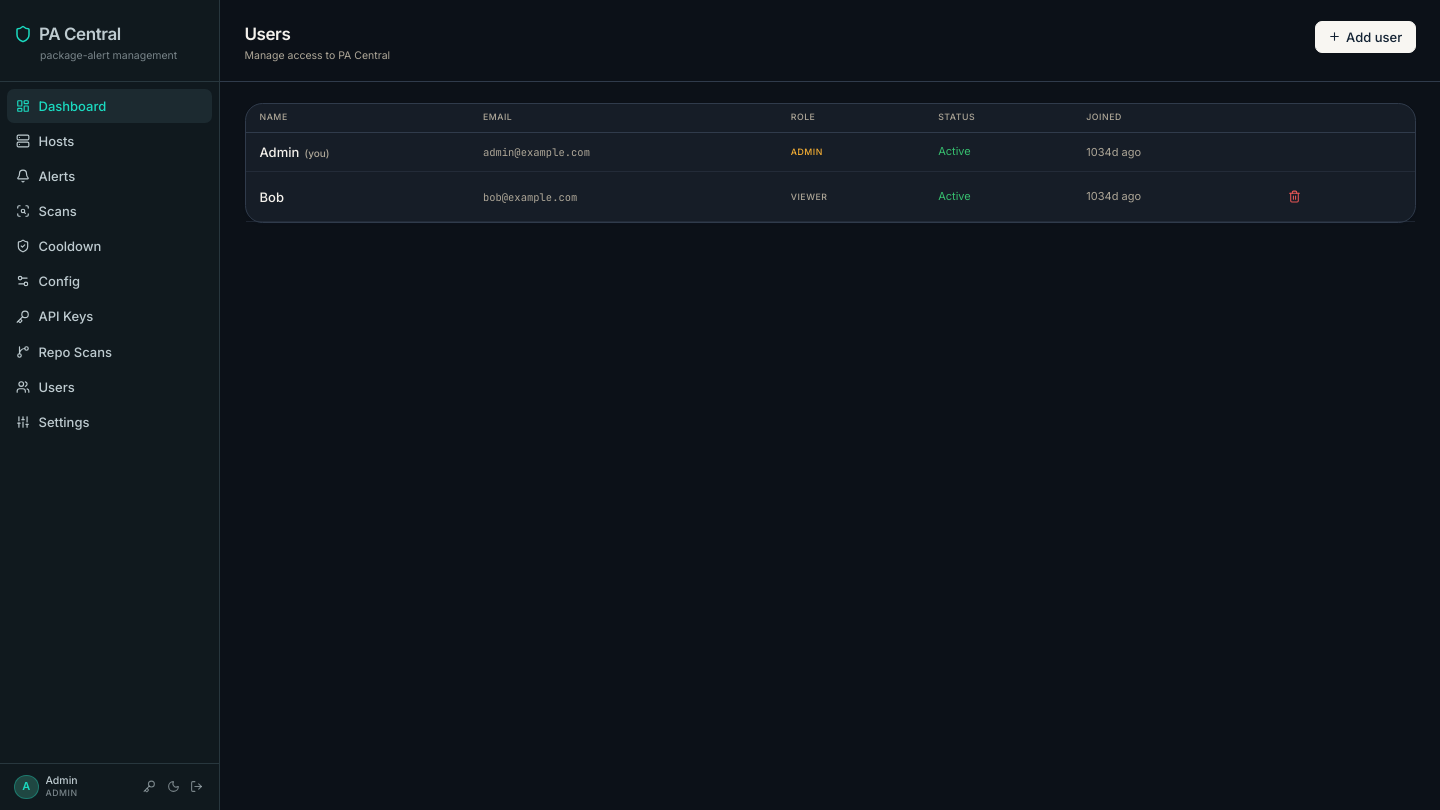
Test: Users page — admin password reset › shows the generated password once when no link was sent
Click the text "Bob" at (272, 197), box [246, 172, 469, 222]
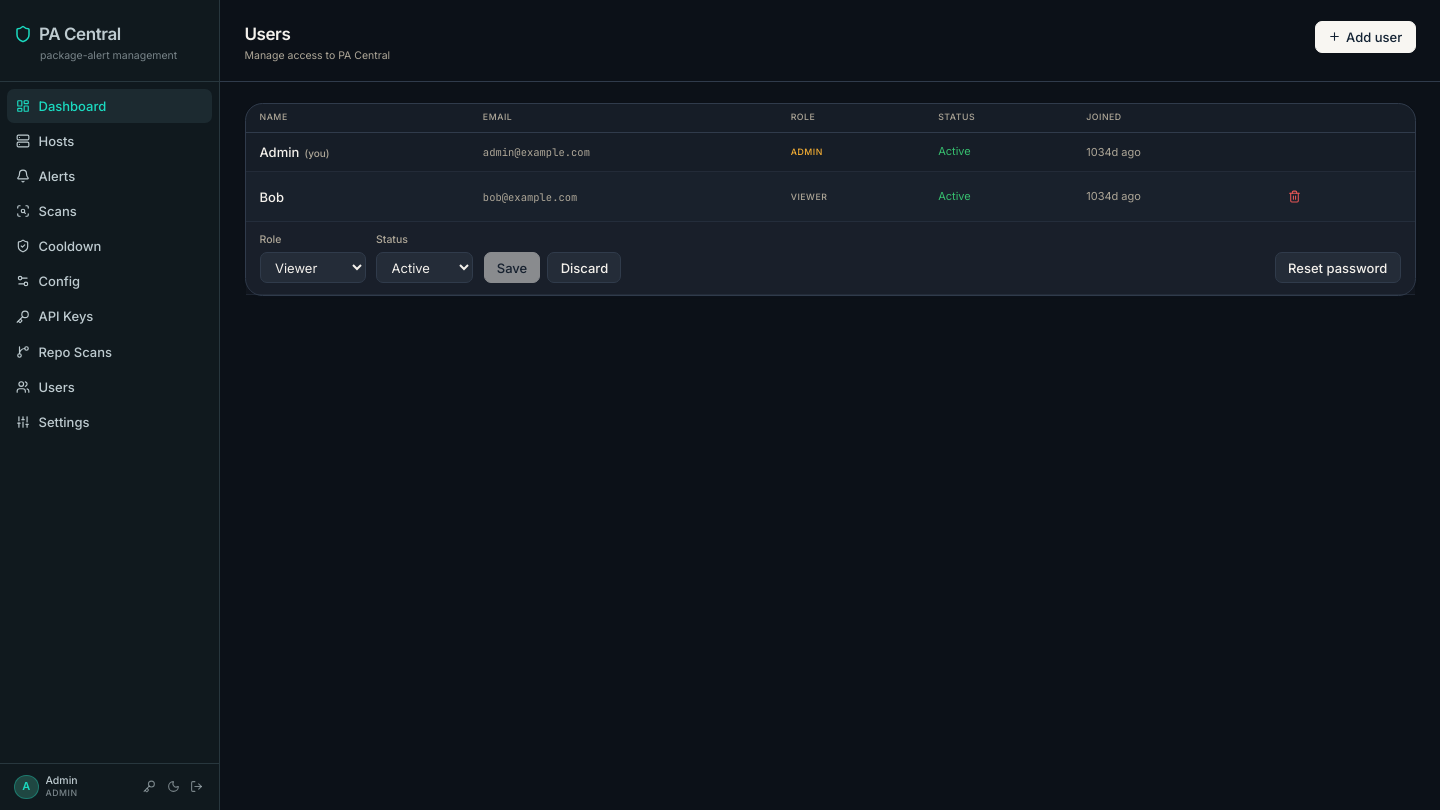
Click the button "Reset password" at (1338, 268), box [1275, 252, 1400, 283]
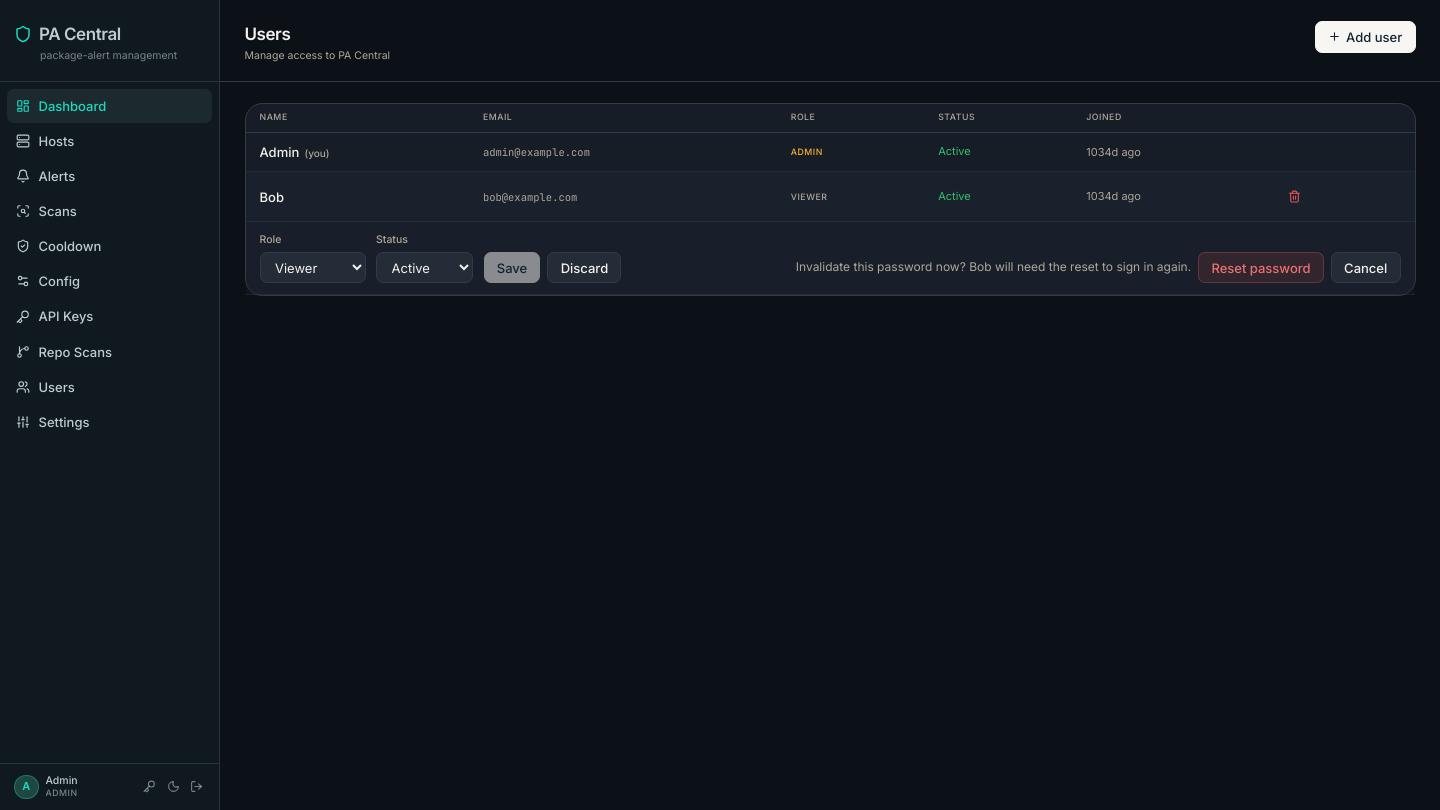
Click the button "Reset password" at (1261, 268), box [1198, 252, 1324, 283]
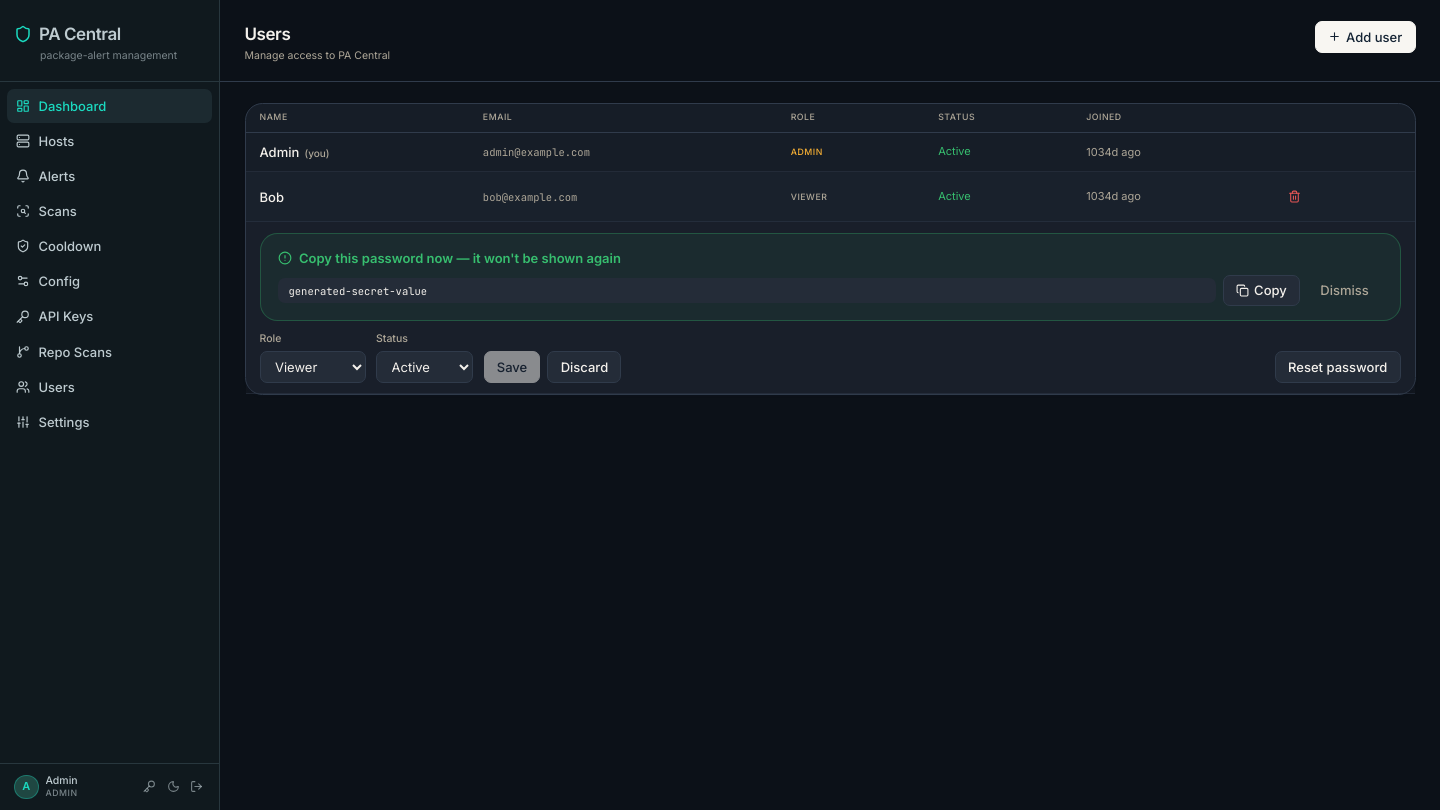
Result: the text "generated-secret-value" is shown at [278, 278, 1216, 303]
Result: the text "Copy this password now — it won't be shown again" is shown at [299, 248, 621, 268]
